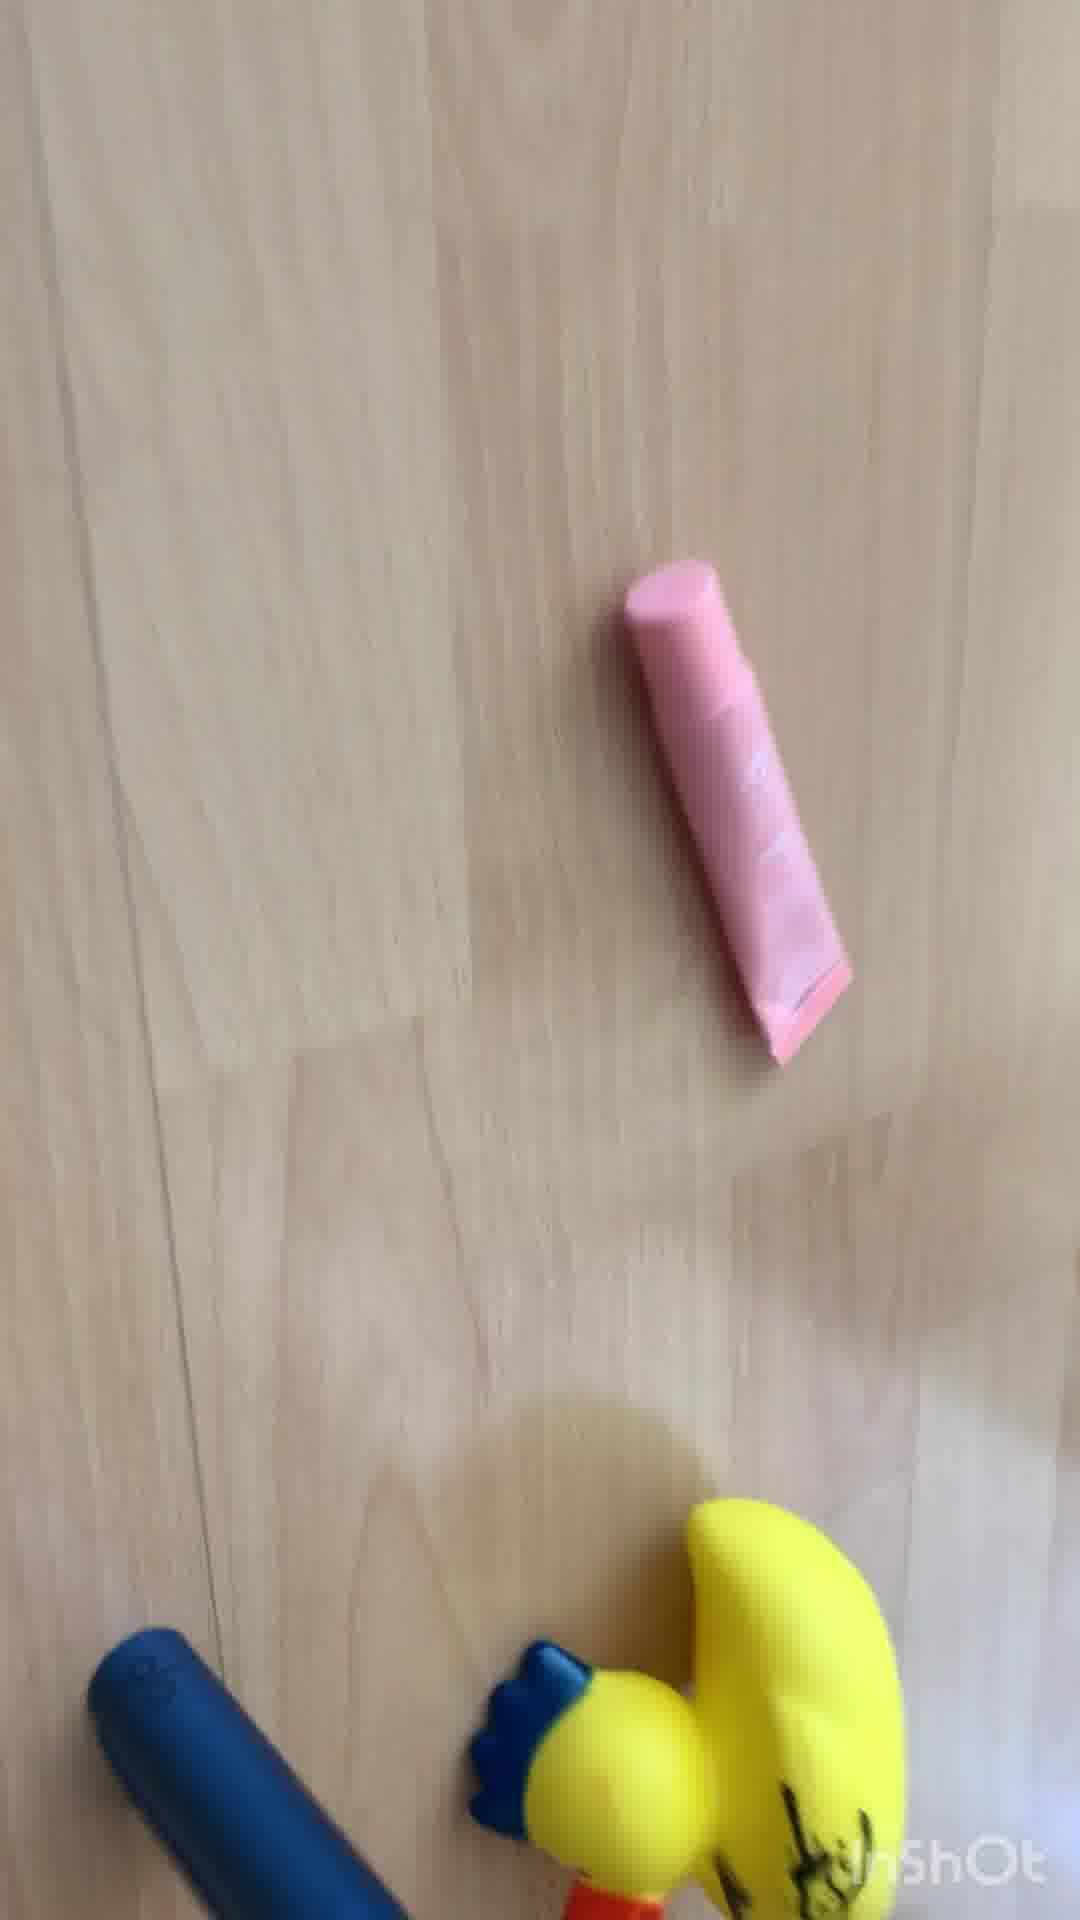duck: (467, 1498, 972, 1920)
glo: (87, 1621, 429, 1920)
lip balm: (618, 545, 858, 1077)
